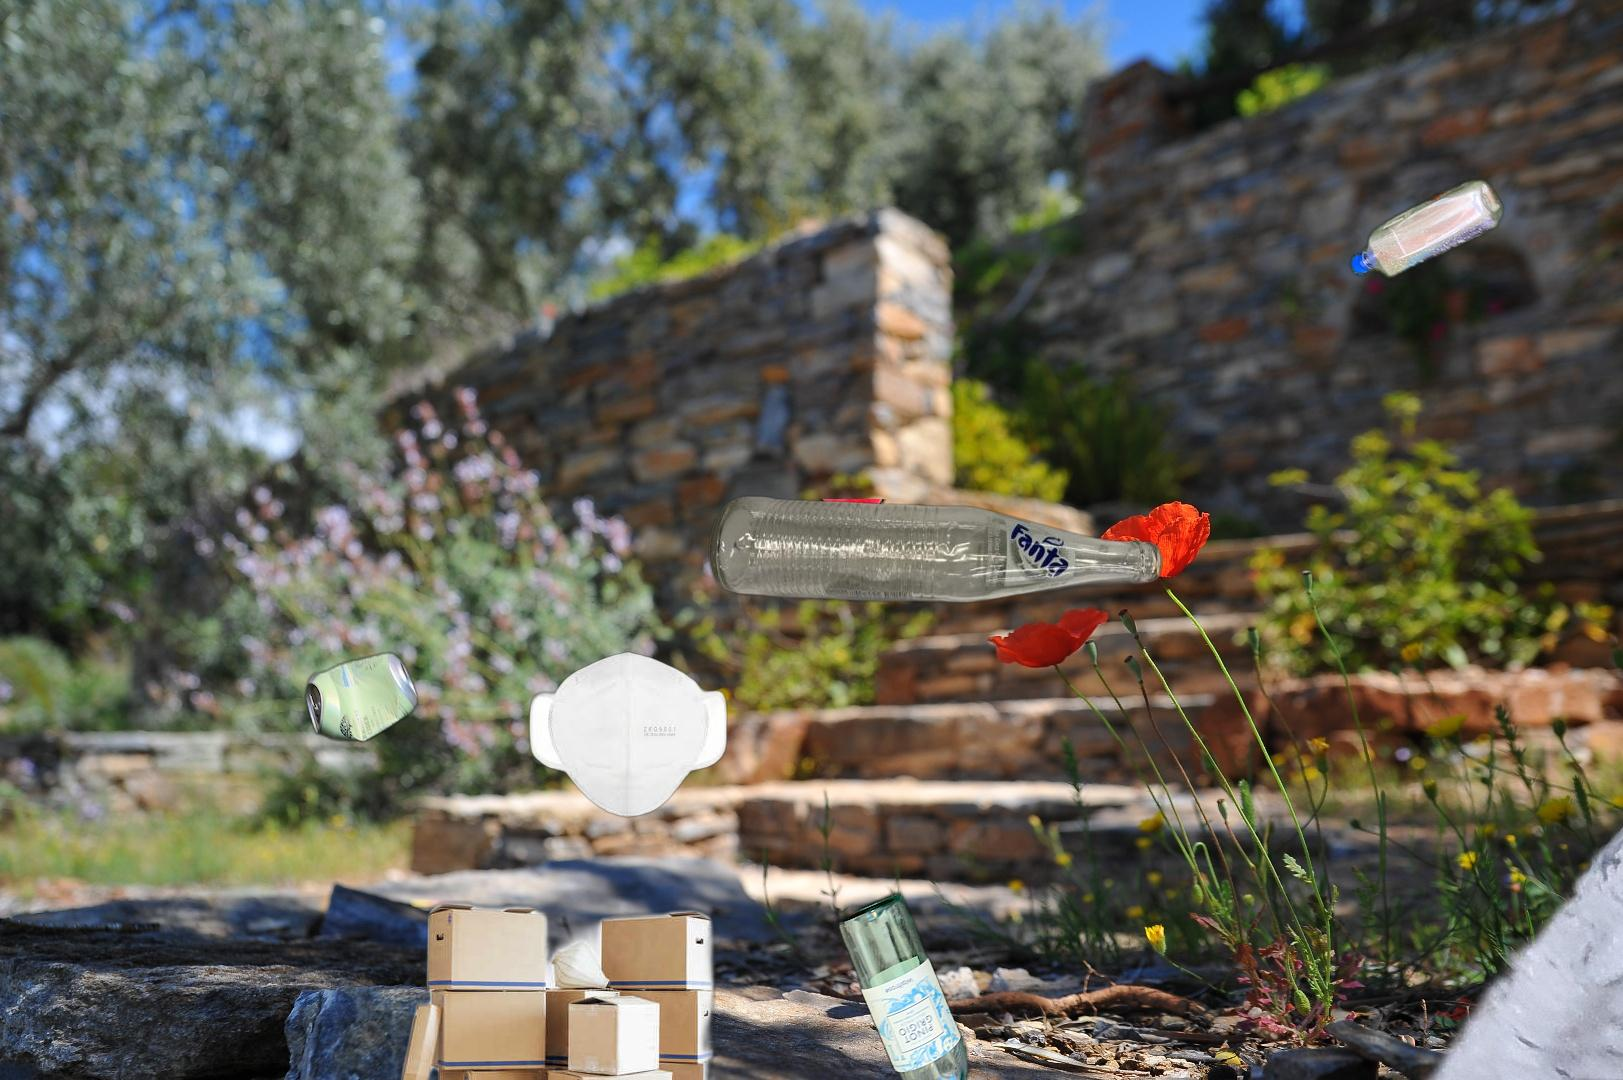battery: (1565, 1078, 1623, 1080)
glass: (815, 499, 990, 1080), (705, 493, 1168, 606)
metal-cans: (300, 646, 423, 749)
plastic-bottles: (1346, 174, 1509, 284)
trash: (527, 648, 731, 820)
trashbox-cardboard: (1324, 509, 1623, 1080), (392, 894, 721, 1080)
